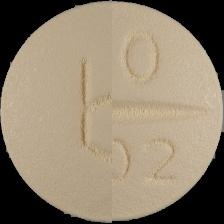63629-5304: (0, 0, 224, 224)
